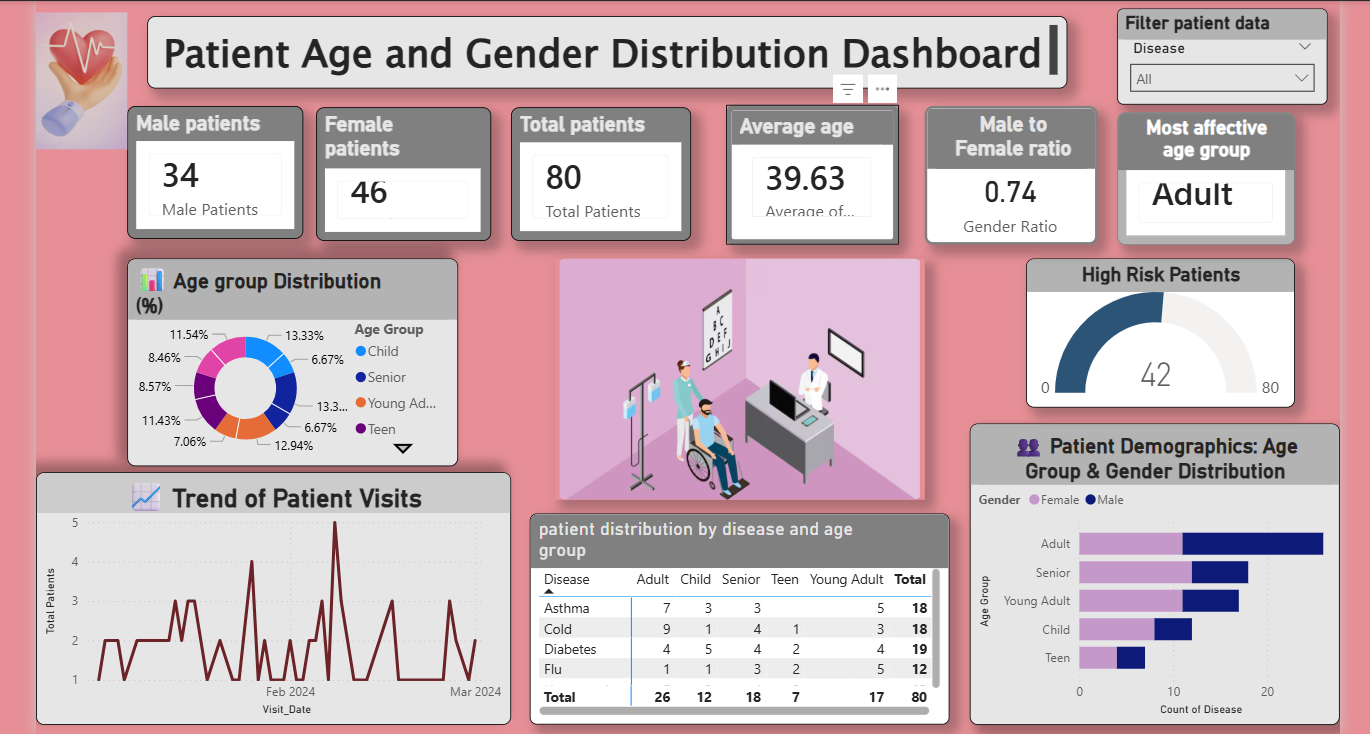

The page's visual inventory and layout, read from the dashboard file:
{"tool":"powerbi","page":{"name":"Page 1","canvas":[1280,720],"ordinal":0},"visuals":[{"type":"barChart","title":"👥 Patient Demographics: Age Group & Gender Distribution","fields":{"Category":["patient_data_80_records.Age Group"],"Series":["patient_data_80_records.Gender"],"Y":["CountNonNull(patient_data_80_records.Disease)"]},"box":[916.6,414.7,363.2,295.7],"z":0},{"type":"lineChart","title":"📈 Trend of Patient Visits","fields":{"Category":["patient_data_80_records.Visit_Date"],"Y":["patient_data_80_records.Total Patients"]},"box":[0,462.6,466.3,247.9],"z":1000},{"type":"donutChart","title":"📊 Age group Distribution (%)","fields":{"Y":["patient_data_80_records.% Female","patient_data_80_records.% Male"],"Category":["patient_data_80_records.Age Group"]},"box":[89.6,252.8,325.2,203.7],"z":2000},{"type":"slicer","title":"Filter patient data","fields":{"Values":["patient_data_80_records.Disease"]},"box":[1061.4,7.4,206.1,94.5],"z":3000},{"type":"textbox","box":[109.2,14.7,903.1,71.2],"z":4000},{"type":"cardVisual","title":"Total patients","fields":{"Data":["patient_data_80_records.Total Patients"]},"box":[466.3,104.3,176.7,131.3],"z":5000},{"type":"cardVisual","title":"Female patients","fields":{"Data":["patient_data_80_records.Female Patients"]},"box":[274.8,104.3,171.8,131.3],"z":6000},{"type":"cardVisual","title":"Male patients","fields":{"Data":["patient_data_80_records.Male Patients"]},"box":[89.6,103.1,173,130.1],"z":7000},{"type":"image","box":[0,0,89.6,157.1],"z":8000},{"type":"cardVisual","title":"Average age","fields":{"Data":["Avg(patient_data_80_records.Average Age)"]},"box":[677.3,101.8,169.3,137.4],"z":9000},{"type":"gauge","title":"High Risk Patients","fields":{"Y":["patient_data_80_records.High Risk Patients"],"MaxValue":["patient_data_80_records.Total Patients"]},"box":[971.8,252.8,263.8,146],"z":10000},{"type":"card","title":"Male to Female ratio","fields":{"Values":["patient_data_80_records.Gender Ratio"]},"box":[872.4,103.1,169.3,136.2],"z":11000},{"type":"cardVisual","title":"Most affective age group","fields":{"Data":["patient_data_80_records.Top Age Group"]},"box":[1061.4,109.2,174.2,130.1],"z":12000},{"type":"image","box":[509.2,252.8,363.2,236.8],"z":13000},{"type":"pivotTable","title":"patient distribution by disease and age group ","fields":{"Rows":["patient_data_80_records.Disease"],"Columns":["patient_data_80_records.Age Group"],"Values":["patient_data_80_records.Total Patients"]},"box":[484.7,503.1,412.3,207.4],"z":14000}]}

Visuals, with their boxes on the page's 1280x720 design canvas (x1, y1, x2, y2). These are canvas units, not pixel positions in the 1370x734 screenshot, which may show the page scaled, cropped or inside an application window:
"👥 Patient Demographics: Age Group & Gender Distribution" barChart: box=[917, 415, 1280, 710]
"📈 Trend of Patient Visits" lineChart: box=[0, 463, 466, 710]
"📊 Age group Distribution (%)" donutChart: box=[90, 253, 415, 456]
"Filter patient data" slicer: box=[1061, 7, 1268, 102]
textbox: box=[109, 15, 1012, 86]
"Total patients" cardVisual: box=[466, 104, 643, 236]
"Female patients" cardVisual: box=[275, 104, 447, 236]
"Male patients" cardVisual: box=[90, 103, 263, 233]
image: box=[0, 0, 90, 157]
"Average age" cardVisual: box=[677, 102, 847, 239]
"High Risk Patients" gauge: box=[972, 253, 1236, 399]
"Male to Female ratio" card: box=[872, 103, 1042, 239]
"Most affective age group" cardVisual: box=[1061, 109, 1236, 239]
image: box=[509, 253, 872, 490]
"patient distribution by disease and age group " pivotTable: box=[485, 503, 897, 710]
